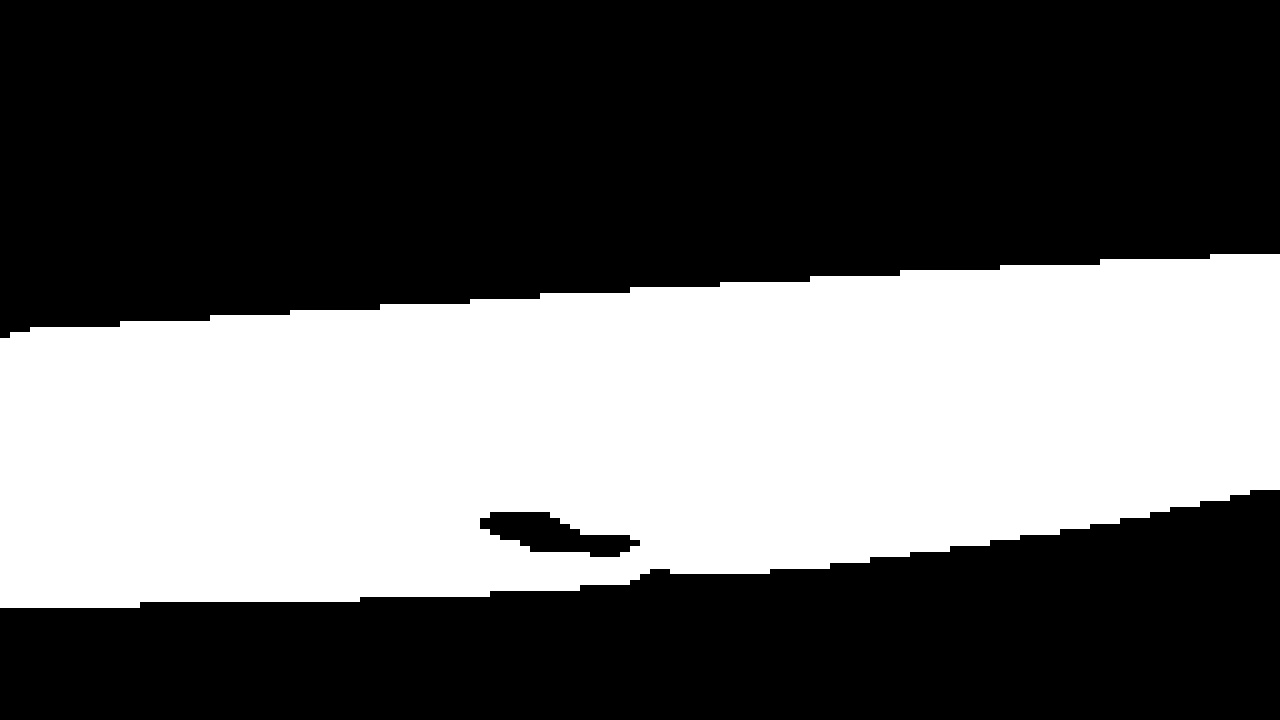Turbine: (14, 226, 1247, 619)
